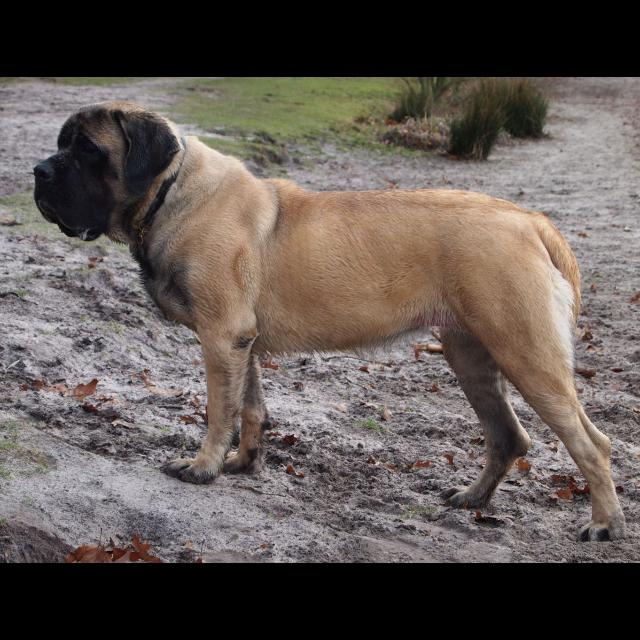mastiff: (33, 99, 627, 543)
